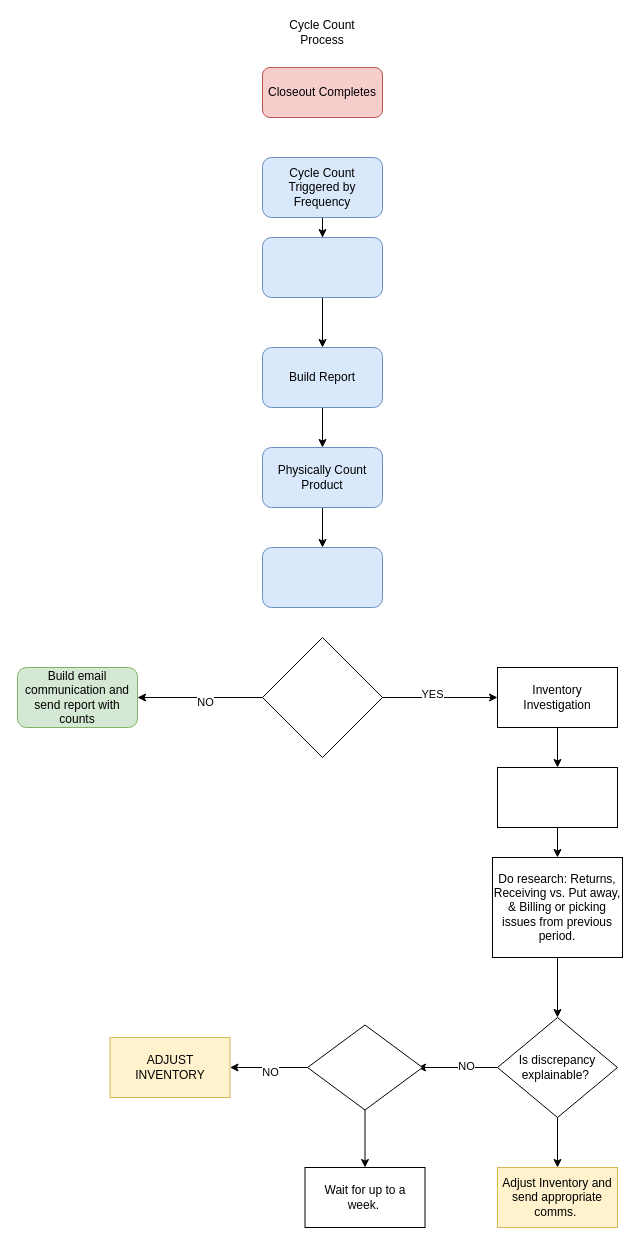
The diagram is 640 pixels wide and 1245 high, and some of its shapes have lost their labels. Each missing label, with the centre of its shape:
"Do we have Descrepencies" goes at (322,697).
"Double count product to verify" goes at (557,797).
"Is this a large Discrepancy?" goes at (364,1067).
"Pull information from AS400 for that area" goes at (322,267).
"Reconcile Count & Paperwork" goes at (322,577).
